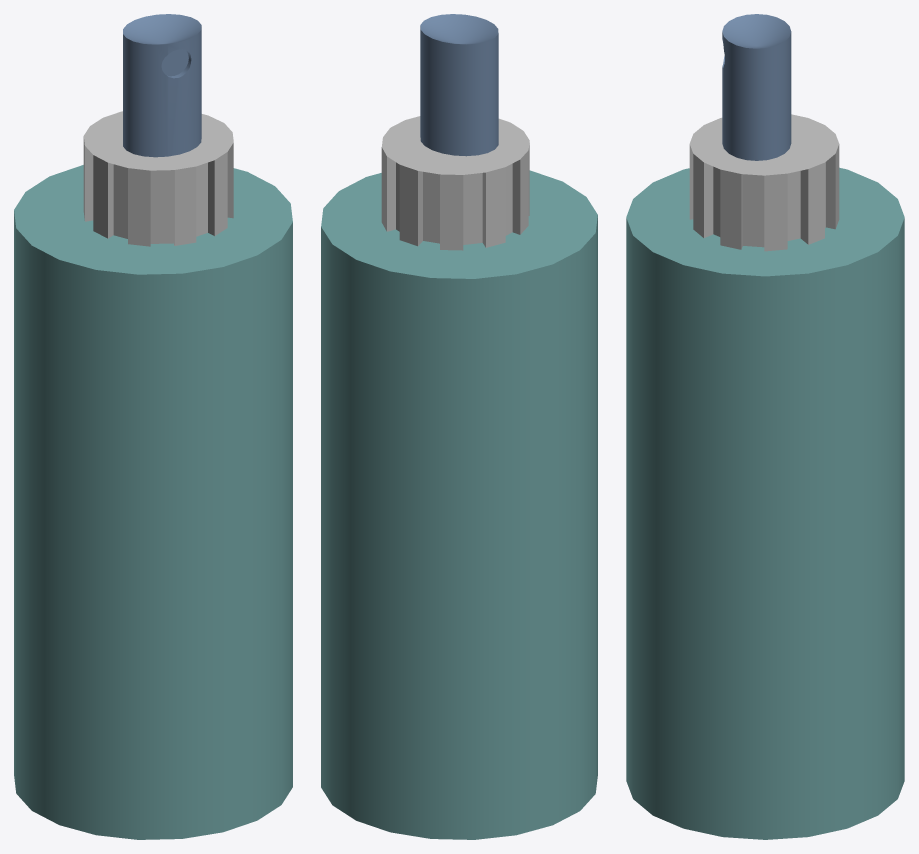
Rendered from des.fbx.
3 views of the same model, side by side, from view 1: azimuth 30°, elevation 25°; view 2: azimuth 150°, elevation 25°; view 3: azimuth 270°, elevation 25° (orthographic).
Parts seen in each view (by area): view 1: pCylinder1, pCylinder5, pCylinder4; view 2: pCylinder1, pCylinder5, pCylinder4; view 3: pCylinder1, pCylinder5, pCylinder4.
Boxes of the visible parts, x1=… form: pCylinder1: x1=14, y1=165, x2=292, y2=839; pCylinder5: x1=83, y1=111, x2=233, y2=246; pCylinder4: x1=123, y1=14, x2=201, y2=157; pCylinder1: x1=321, y1=170, x2=597, y2=839; pCylinder5: x1=381, y1=116, x2=529, y2=250; pCylinder4: x1=420, y1=14, x2=498, y2=156; pCylinder1: x1=626, y1=167, x2=904, y2=839; pCylinder5: x1=689, y1=114, x2=839, y2=251; pCylinder4: x1=722, y1=14, x2=791, y2=160.
Bounding box in the file's own units: 2.3 × 6.82 × 2.29.
